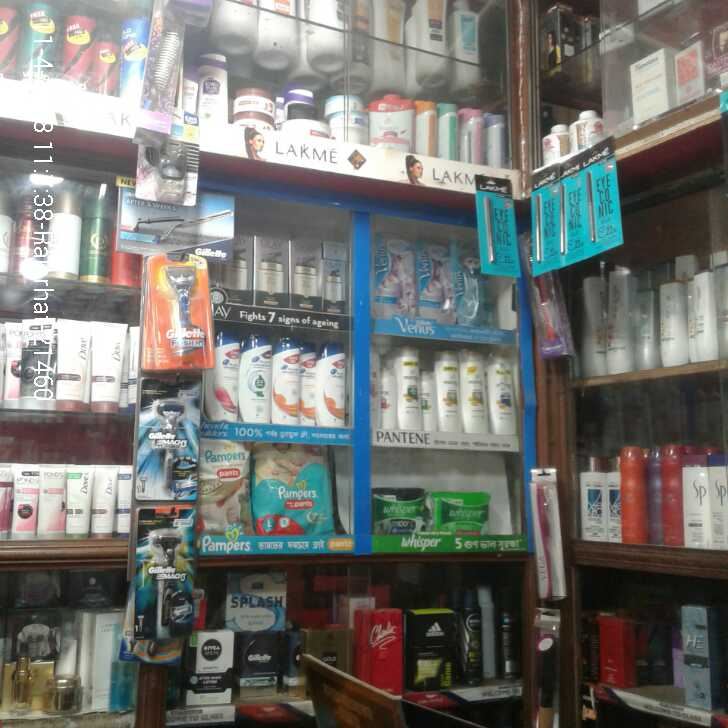gillete: (139, 246, 213, 378), (133, 384, 200, 506), (136, 513, 196, 637)
venus: (375, 236, 413, 316), (416, 242, 450, 317), (452, 241, 481, 323)
